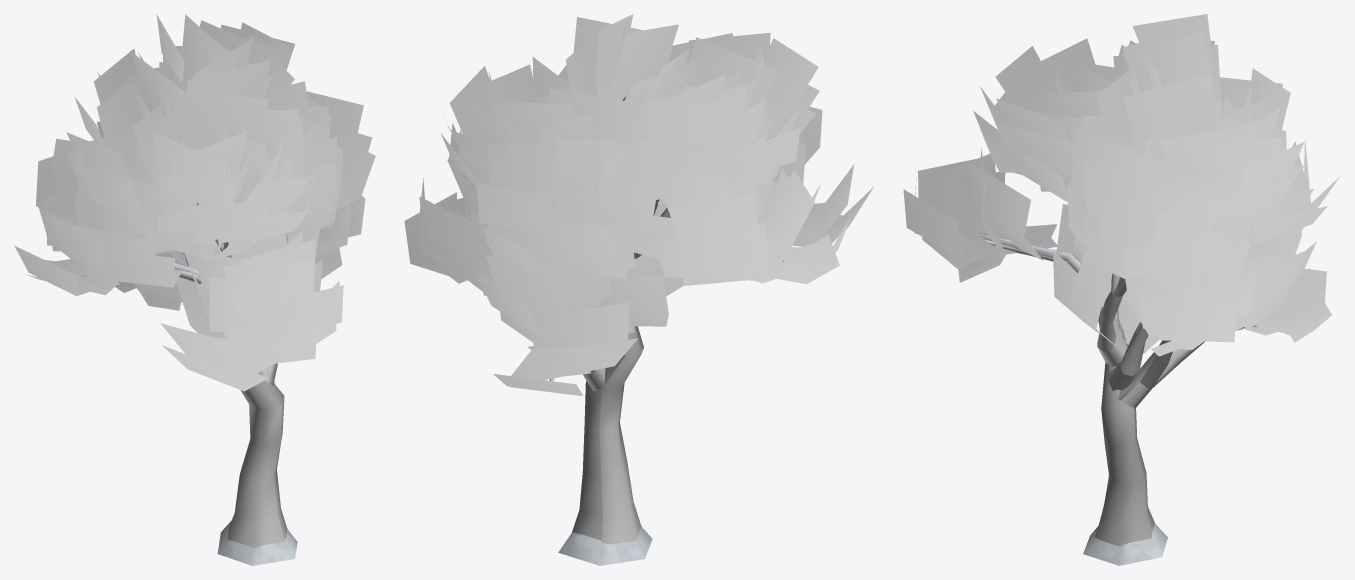
Rendered from Tree_Medium_7_Snow.fbx.
The picture shows the model from 3 angles, left to right: view 1: azimuth 30°, elevation 25°; view 2: azimuth 150°, elevation 25°; view 3: azimuth 270°, elevation 25°; orthographic projection. The views are drawn at different scales.
Visible parts, largest first — view 1: Tree_Medium_7_Snow_LOD0, Tree_Medium_7_Snow_Colider; view 2: Tree_Medium_7_Snow_LOD0, Tree_Medium_7_Snow_Colider; view 3: Tree_Medium_7_Snow_LOD0, Tree_Medium_7_Snow_Colider.
Part boxes in pixels (x1,y1,x2,y2): Tree_Medium_7_Snow_LOD0: [14, 14, 375, 565]; Tree_Medium_7_Snow_Colider: [257, 371, 287, 539]; Tree_Medium_7_Snow_LOD0: [404, 14, 873, 565]; Tree_Medium_7_Snow_Colider: [572, 355, 625, 541]; Tree_Medium_7_Snow_LOD0: [903, 14, 1339, 565]; Tree_Medium_7_Snow_Colider: [1094, 362, 1154, 546].
Size of what is drawn, in the model's own units: 1682 by 2271 by 1777.
